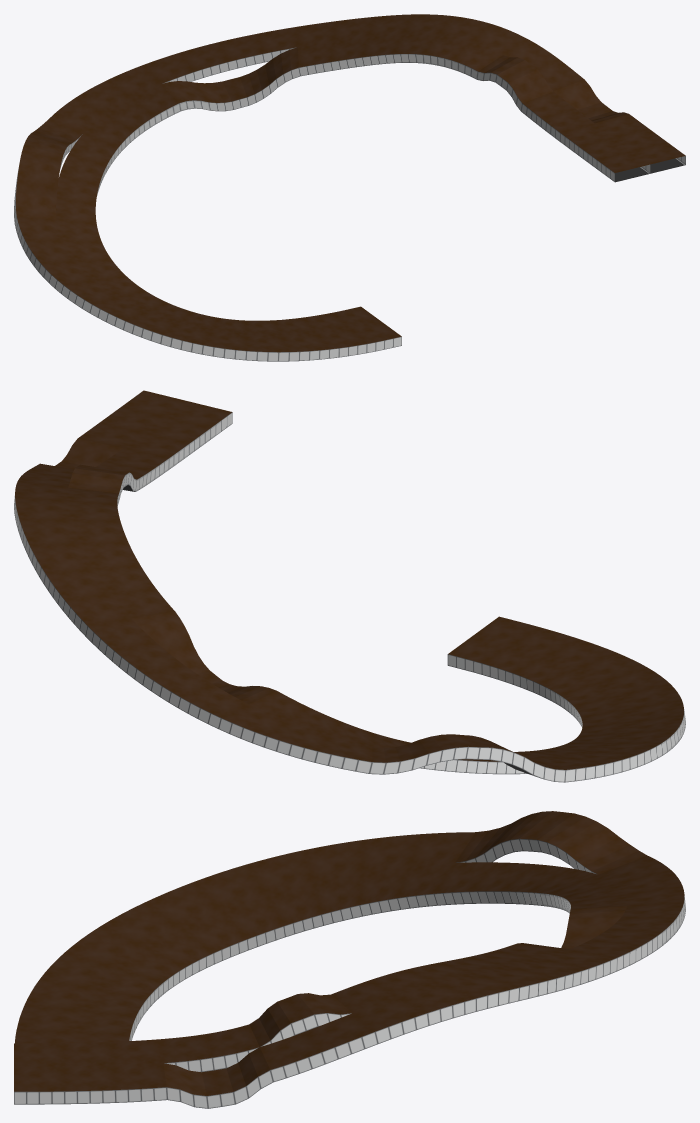
The model's file is MudnessBlenderCurve.obj.
3 views of the same model, one above another, from view 1: azimuth 30°, elevation 25°; view 2: azimuth 150°, elevation 25°; view 3: azimuth 270°, elevation 25° (orthographic). The views are drawn at different scales.
Visible parts, largest first — view 1: Cube_Cube.001, Cube.001_Cube.002; view 2: Cube_Cube.001, Cube.001_Cube.002; view 3: Cube_Cube.001, Cube.001_Cube.002.
Boxes of the visible parts, x1,y1,x2,y2 form: Cube_Cube.001: [14, 14, 685, 361]; Cube.001_Cube.002: [56, 34, 650, 336]; Cube_Cube.001: [14, 390, 685, 782]; Cube.001_Cube.002: [66, 401, 633, 774]; Cube_Cube.001: [14, 811, 685, 1108]; Cube.001_Cube.002: [14, 862, 627, 1072].
Size of the model in its own units: 29.38 by 8.38 by 23.56.
